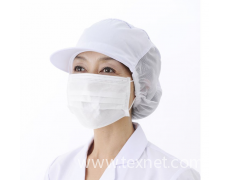face_mask: (68, 48, 133, 125)
